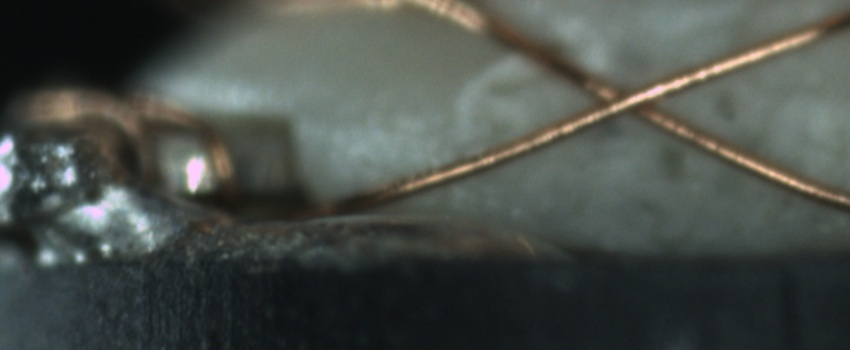CL: (559, 65, 695, 130)
TE: (10, 79, 247, 207)
